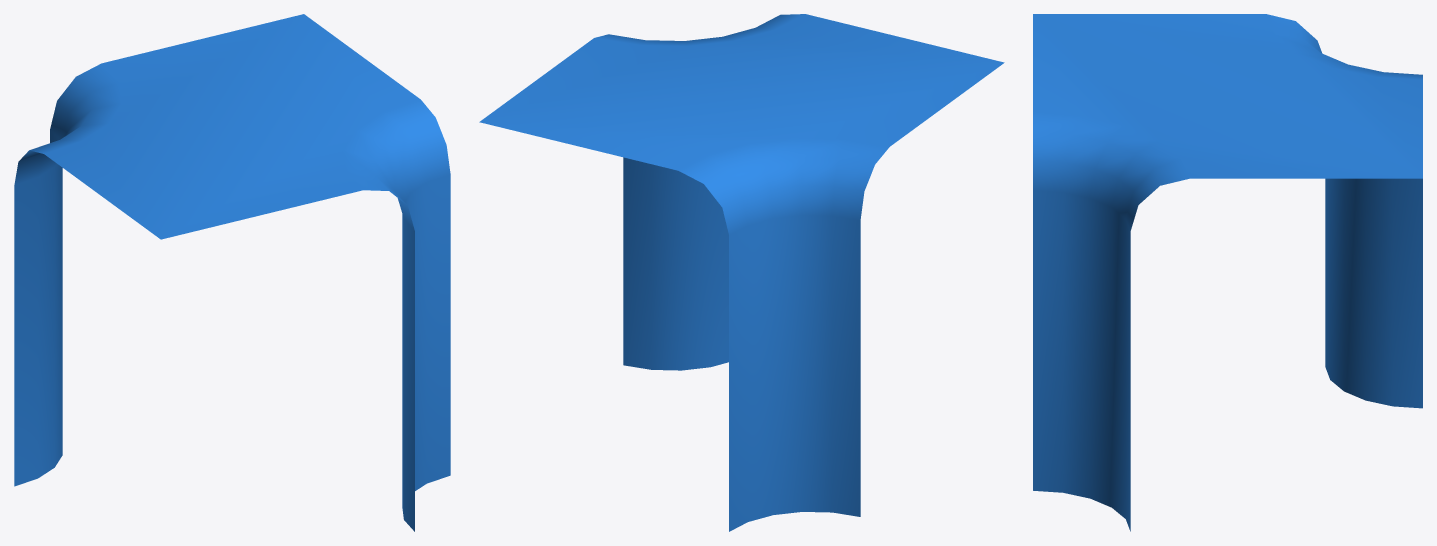
Rendered from BaseBlock_MergedCorner_Mesh.fbx.
3 renders of one model, left to right at view 1: azimuth 30°, elevation 25°; view 2: azimuth 150°, elevation 25°; view 3: azimuth 270°, elevation 25°, orthographic.
Visible parts, largest first — view 1: BaseBlock_MergedCorner; view 2: BaseBlock_MergedCorner; view 3: BaseBlock_MergedCorner.
Part boxes in pixels (bbox=[...]): BaseBlock_MergedCorner: bbox=[14, 14, 450, 531]; BaseBlock_MergedCorner: bbox=[479, 14, 1004, 531]; BaseBlock_MergedCorner: bbox=[1033, 14, 1422, 531].
Size of the model in its own units: 200 by 200 by 200.
